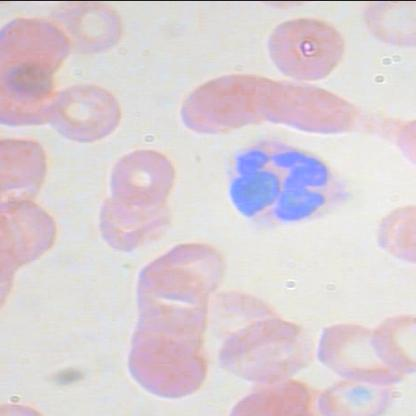RBC: (215, 315, 315, 385), (261, 14, 350, 82), (134, 238, 234, 298), (44, 76, 129, 146), (124, 333, 209, 402), (260, 80, 352, 136), (189, 72, 281, 128), (90, 192, 174, 252), (104, 148, 180, 204), (52, 1, 128, 57), (314, 370, 392, 416), (361, 311, 415, 377), (387, 200, 415, 271), (393, 108, 415, 176)
WBC: (218, 132, 352, 236)
